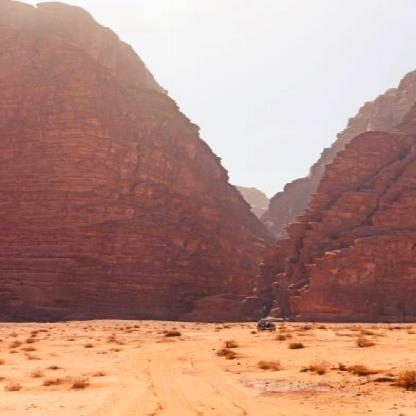Sedimentary_Sandstone: (1, 28, 119, 317), (268, 127, 415, 331)
